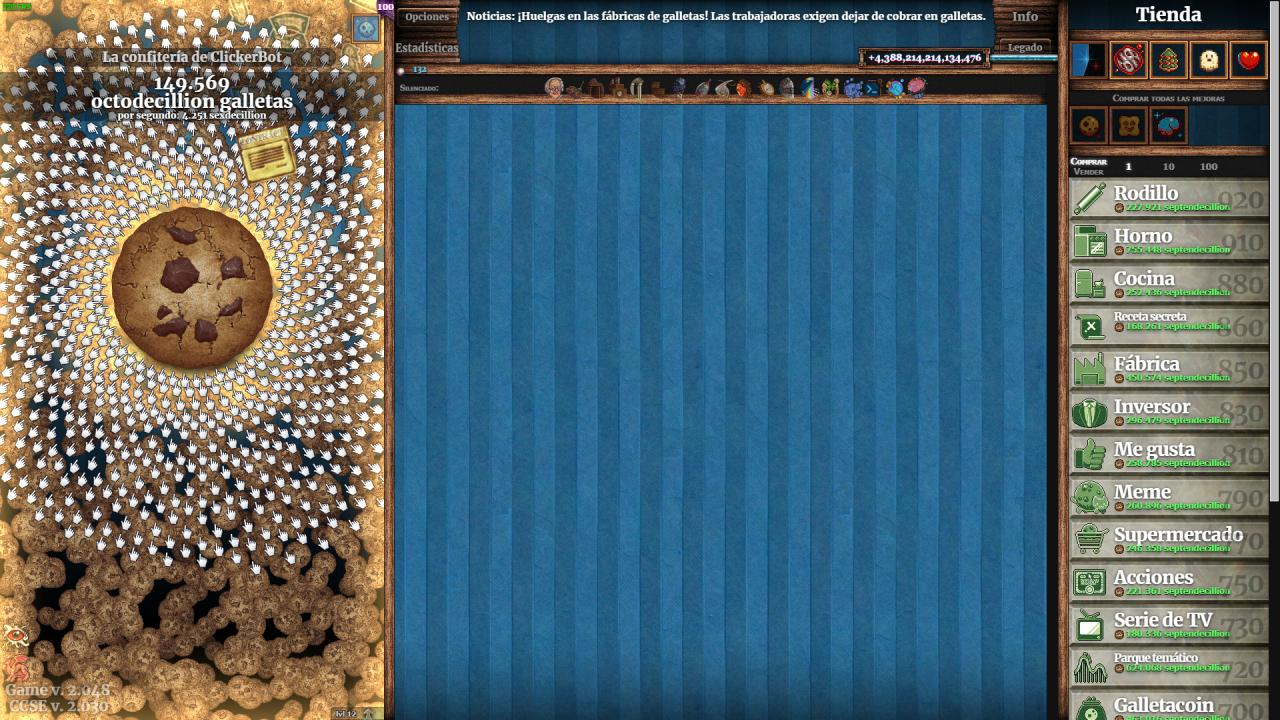GoldenCartridge: (237, 123, 299, 186)
